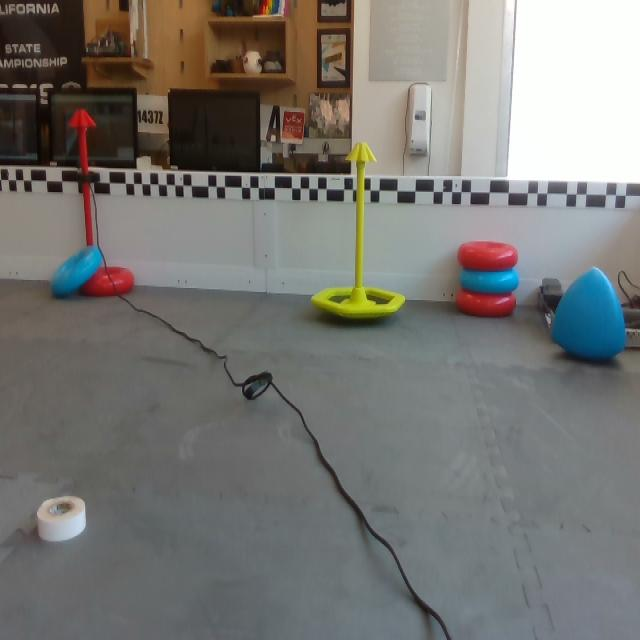Blue-Ring: (49, 244, 104, 300), (461, 267, 525, 293)
Mobile-Goal: (309, 132, 409, 319)
Red-Ring: (455, 292, 521, 320), (459, 242, 519, 271), (77, 266, 137, 294)
Yellow-Stake-Head: (347, 142, 378, 164)
zred-Stake-Head: (68, 110, 96, 128)
